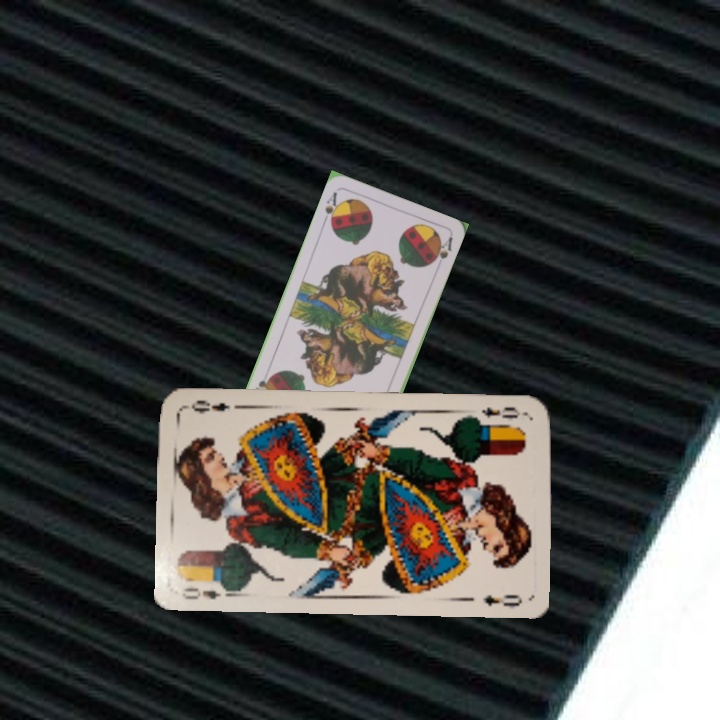EO: (177, 578, 235, 602), (478, 402, 530, 421)
SA: (319, 187, 343, 229)
